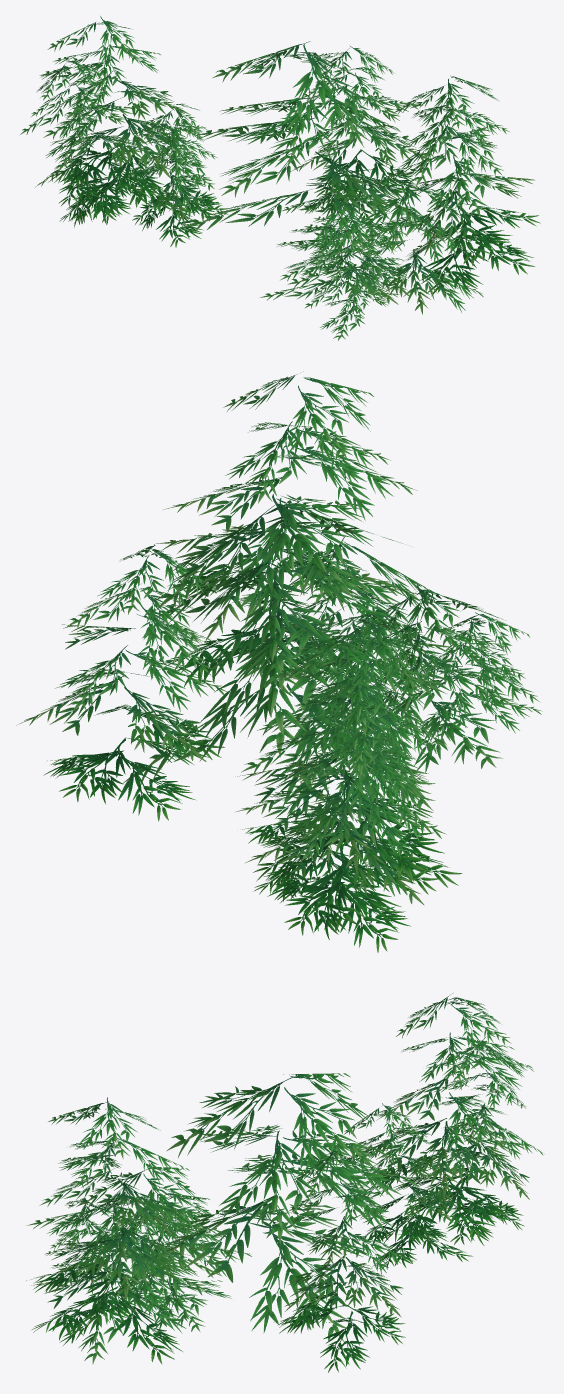
The model's file is Area_09_23.fbx.
3 renders of one model, top to bottom at view 1: azimuth 30°, elevation 25°; view 2: azimuth 150°, elevation 25°; view 3: azimuth 270°, elevation 25°, orthographic. The views are drawn at different scales.
Parts seen in each view (by area): view 1: Area_09_23; view 2: Area_09_23; view 3: Area_09_23.
Boxes of the visible parts, box(x1,y1,x2,y2) form: Area_09_23: box(20, 16, 540, 340); Area_09_23: box(16, 371, 542, 952); Area_09_23: box(26, 993, 543, 1372).
Size of the model in its own units: 2339 by 1411 by 2678.
